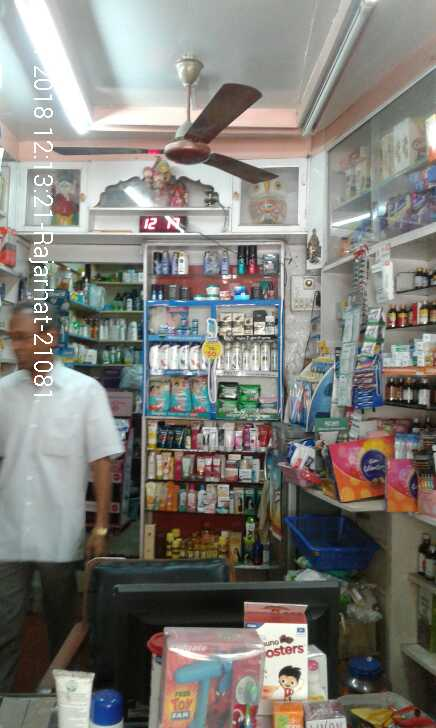vicks: (160, 318, 199, 337)
